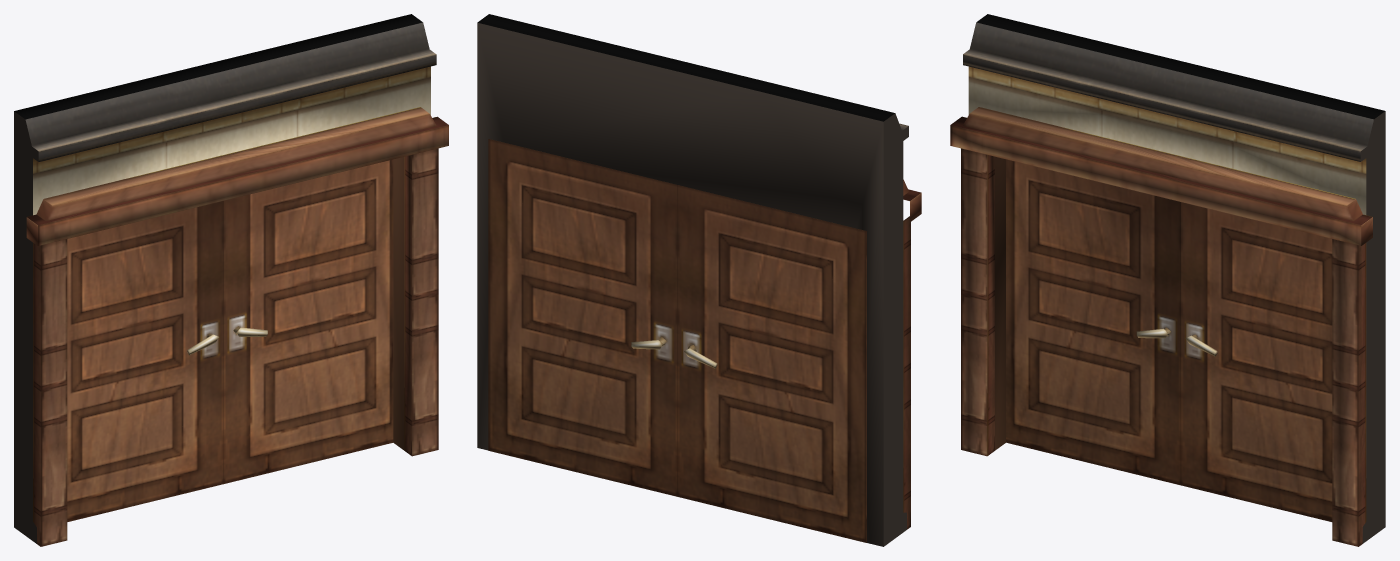
The model's file is a_SWIdoor01_03a.glb.
3 views of the same model, side by side, from view 1: azimuth 30°, elevation 25°; view 2: azimuth 150°, elevation 25°; view 3: azimuth 330°, elevation 25° (orthographic). The views are drawn at different scales.
Visible parts, largest first — view 1: a_SWIdoor01_03a; view 2: a_SWIdoor01_03a; view 3: a_SWIdoor01_03a.
Boxes of the visible parts, x1=… form: a_SWIdoor01_03a: x1=14, y1=14, x2=448, y2=546; a_SWIdoor01_03a: x1=477, y1=14, x2=921, y2=546; a_SWIdoor01_03a: x1=950, y1=14, x2=1385, y2=546.
Bounding box in the file's own units: 3.1 × 3 × 0.4657.
Materials: 3 (3 with a texture image).
